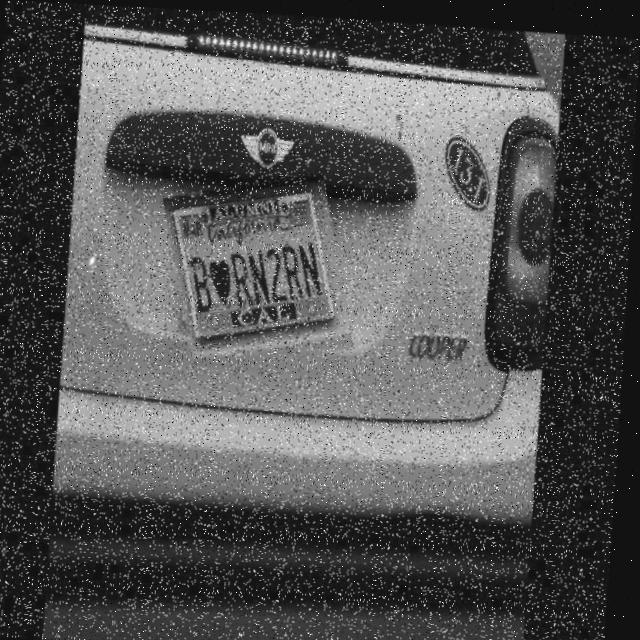LicensePlate: (164, 166, 357, 373)
